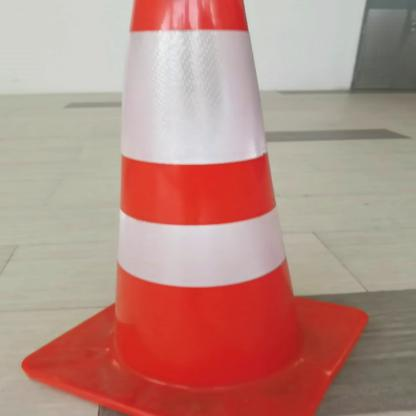cone: (11, 0, 384, 416)
